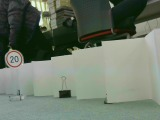speed_20: (4, 50, 24, 69)
